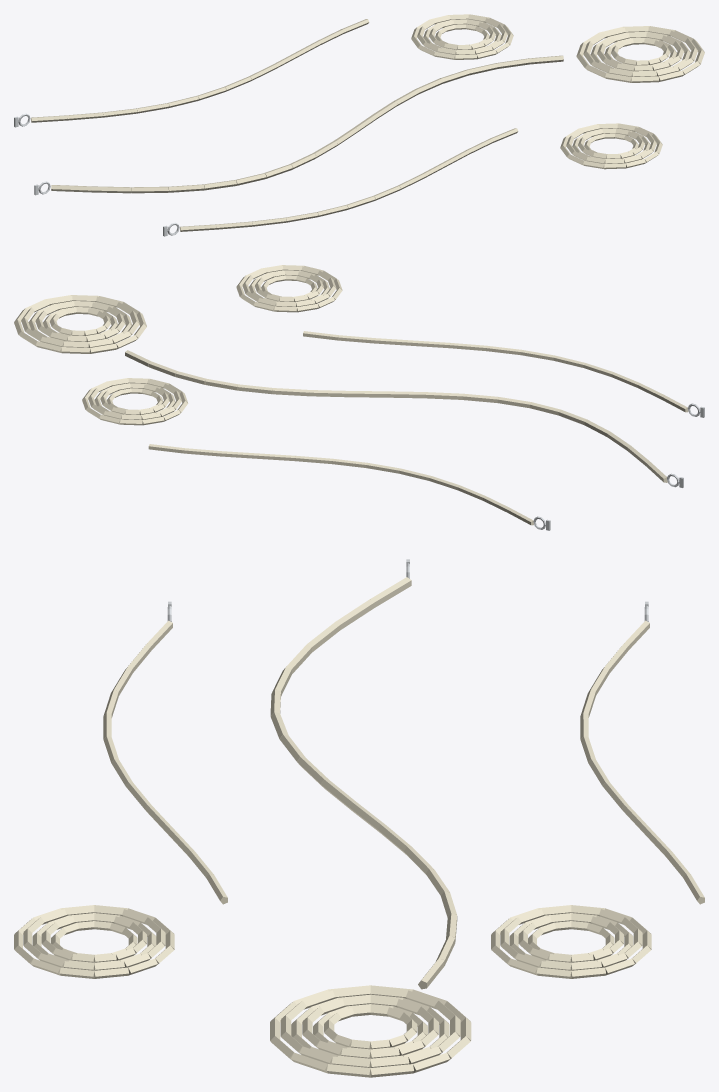
Rendered from hot-air-balloon-festival-balloon-crown-and-side-lines-dca7ea6a__38470.glb.
3 renders of one model, top to bottom at view 1: azimuth 30°, elevation 25°; view 2: azimuth 150°, elevation 25°; view 3: azimuth 270°, elevation 25°, orthographic. The views are drawn at different scales.
Visible parts, largest first — view 1: balloon-crown-and-side-lines-rope, balloon-crown-and-side-lines-steel; view 2: balloon-crown-and-side-lines-rope, balloon-crown-and-side-lines-steel; view 3: balloon-crown-and-side-lines-rope.
Boxes of the visible parts, x1=… form: balloon-crown-and-side-lines-rope: x1=31, y1=14, x2=704, y2=231; balloon-crown-and-side-lines-steel: x1=14, y1=113, x2=179, y2=236; balloon-crown-and-side-lines-rope: x1=14, y1=265, x2=688, y2=525; balloon-crown-and-side-lines-steel: x1=533, y1=403, x2=704, y2=530; balloon-crown-and-side-lines-rope: x1=14, y1=577, x2=704, y2=1077.
Size of the model in its own units: 9.57 by 0.173 by 5.5.
